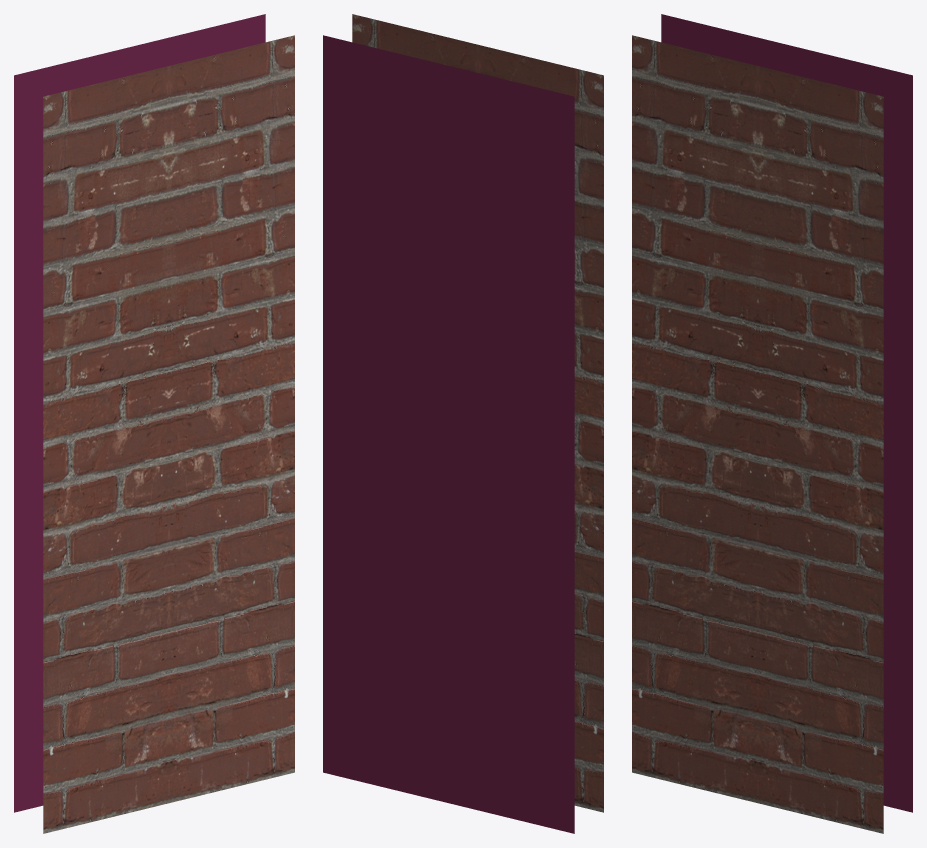
Rendered from MidIn_Wall_1x.FBX.
3 renders of one model, left to right at view 1: azimuth 30°, elevation 25°; view 2: azimuth 150°, elevation 25°; view 3: azimuth 330°, elevation 25°, orthographic.
Parts seen in each view (by area): view 1: MidIn_Wall_1x; view 2: MidIn_Wall_1x; view 3: MidIn_Wall_1x.
Part boxes in pixels (box(x1,y1,x2,y2)): MidIn_Wall_1x: box(14, 14, 294, 833); MidIn_Wall_1x: box(323, 14, 603, 833); MidIn_Wall_1x: box(632, 14, 912, 833).
Bounding box in the file's own units: 100 × 280 × 20.
